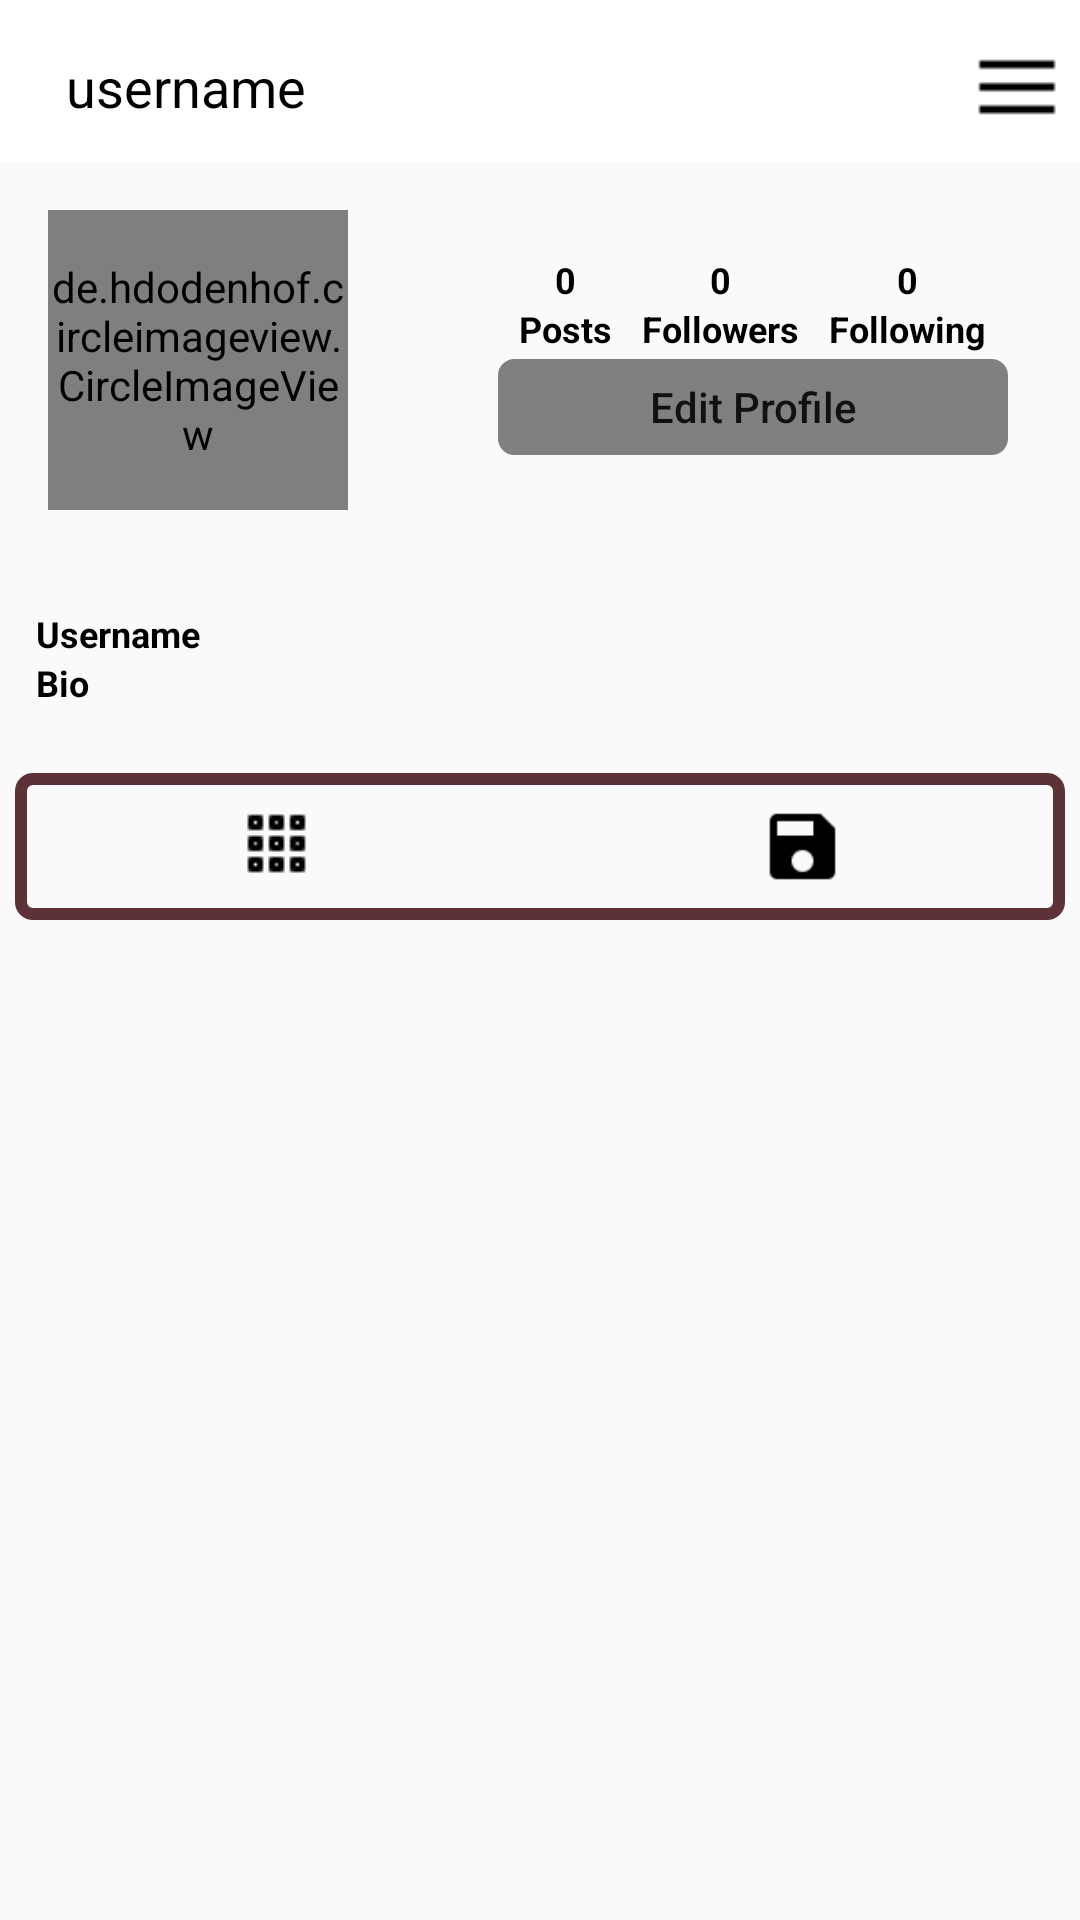

Screen size 1080px×1920px. Icon name, then its box in pixels as bbox(x1, y1, x2, y2):
options: bbox(978, 59, 1056, 115)
